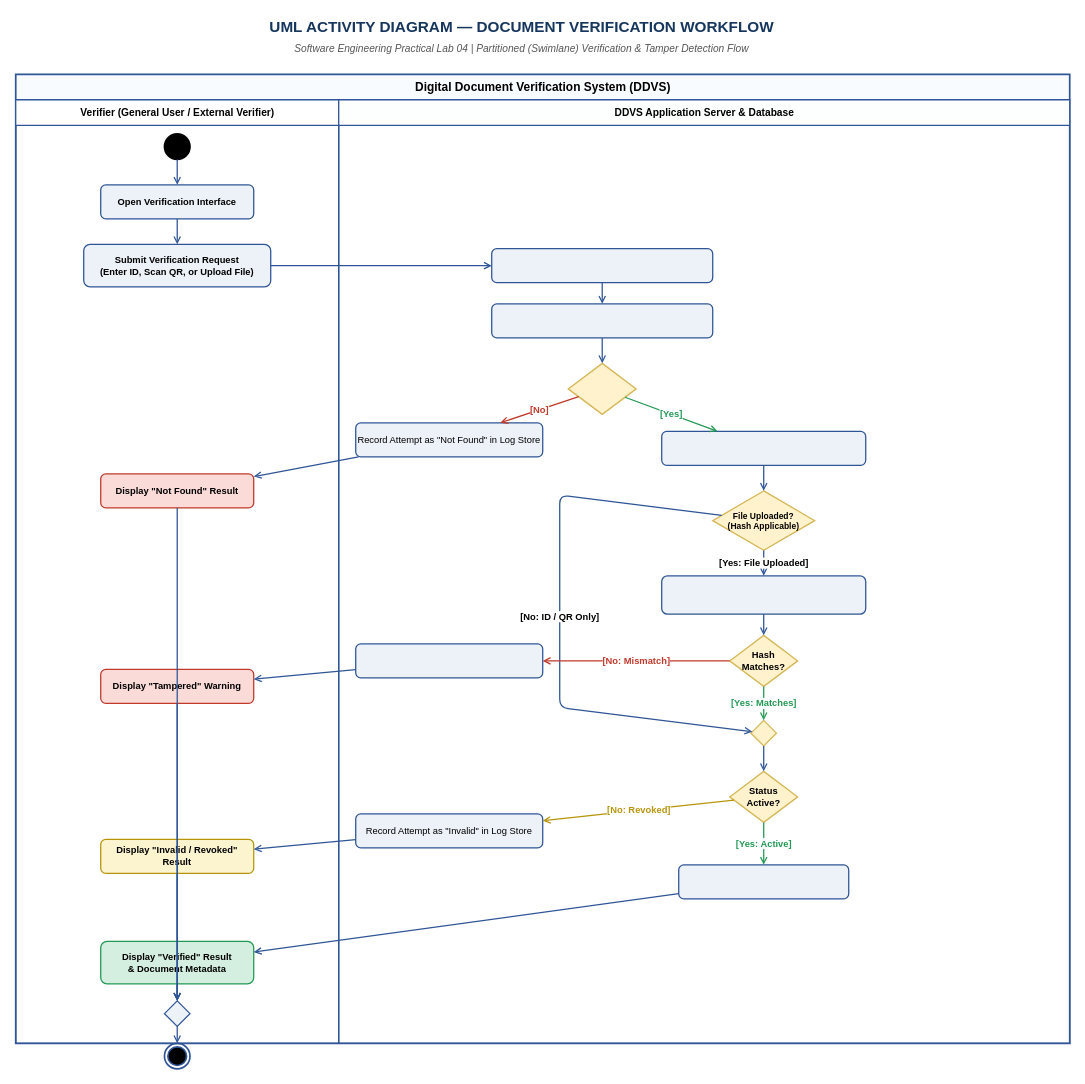
This 1085x1084 diagram has some shape labels left out. The shapes that lost their labels are listed below. From the top down, each one's centre as x and y in pixels, then its label:
the point at 602,265: Receive Request & Extract Document Identifier
the point at 602,320: Query Document Store for Matching Record
the point at 601,388: Record Found?
the point at 763,448: Retrieve Stored Hash, Status & Metadata
the point at 763,594: Compute SHA-256 Hash of Submitted File & Compare with Stored Hash
the point at 449,660: Record Attempt as "Tampered" in Log Store
the point at 763,881: Record Attempt as "Verified" in Log Store
